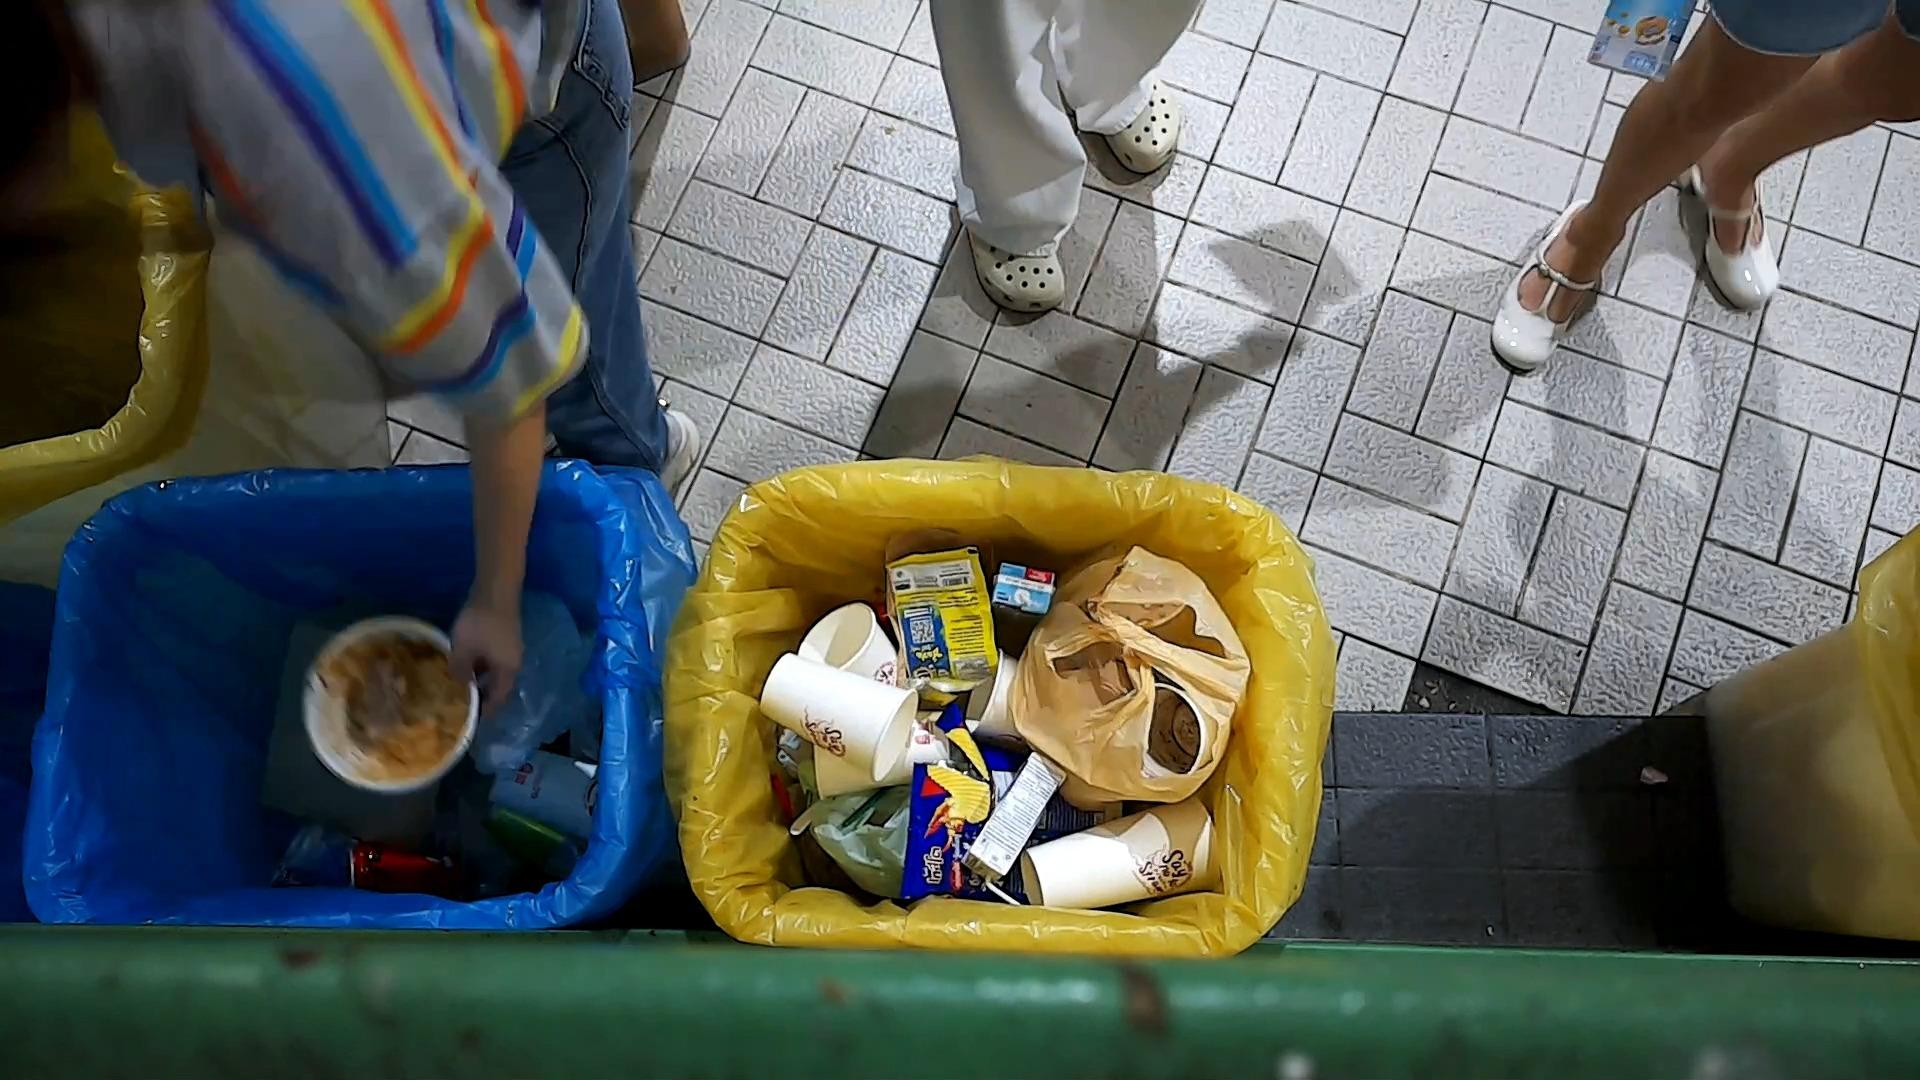can: (480, 804, 588, 884), (344, 837, 471, 899), (272, 816, 363, 889)
dirty food container: (298, 604, 489, 803)
filled plastic bag: (1006, 541, 1255, 816)
milk carton: (956, 750, 1072, 910), (1580, 0, 1701, 90), (981, 559, 1062, 630)
plastic bag: (468, 579, 592, 783)
snack packaging: (885, 550, 1002, 699)
zero waste cup: (1015, 795, 1226, 914), (754, 646, 919, 790), (481, 741, 603, 845)
